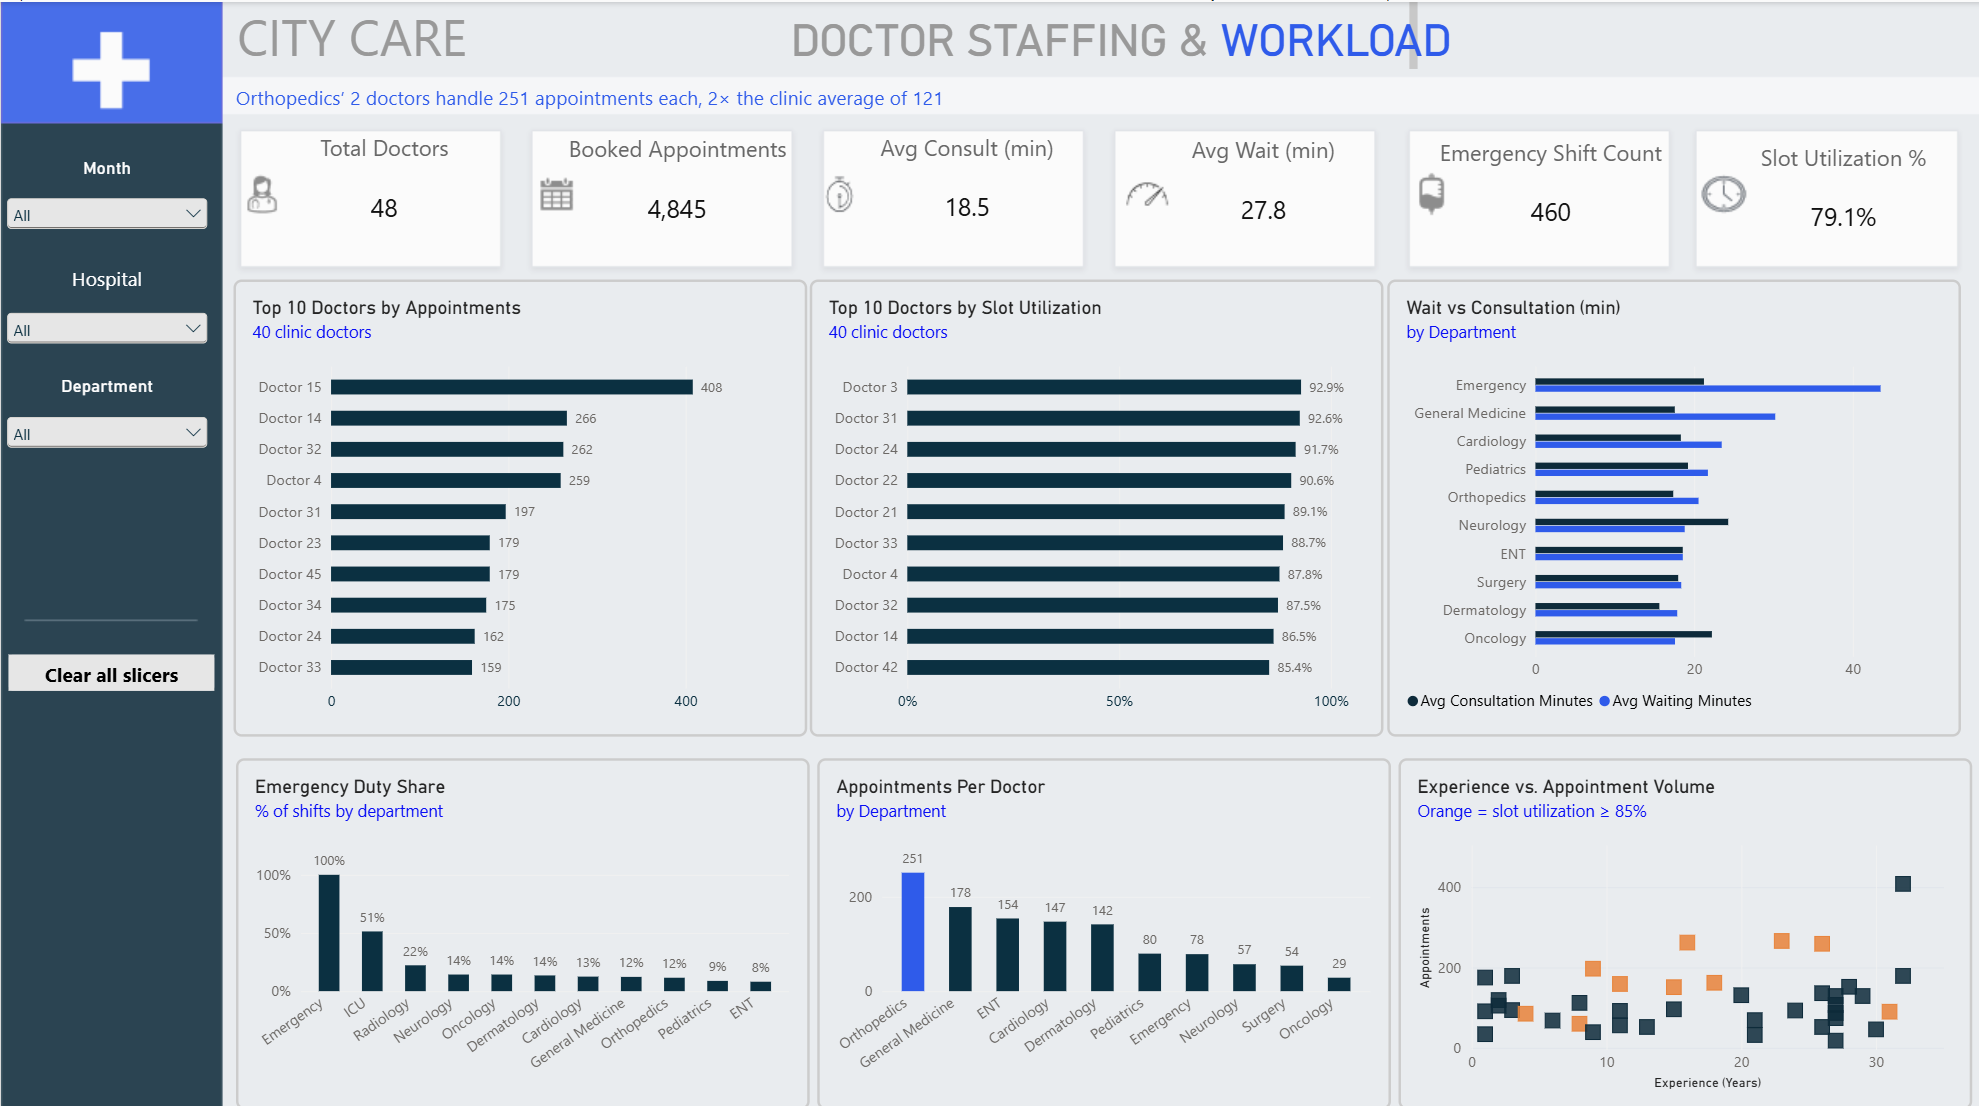

Layout of this report page (visuals, bound fields, positions):
{"tool":"powerbi","page":{"name":"Doctor Staffing","canvas":[1920,1080],"ordinal":1},"visuals":[{"type":"barChart","title":"Top 10 Doctors by Appointments","fields":{"Category":["Doctors.DoctorName"],"Y":["Measures..Total Appointments.."]},"box":[225.2,268.5,555,442],"z":0},{"type":"textbox","box":[662.9,0,707.7,65.3],"z":1000},{"type":"cardVisual","title":"Total Doctors","fields":{"Data":["Measures..Total Doctors"]},"box":[261.5,125.9,219.6,125.9],"z":2000},{"type":"cardVisual","title":"Booked Appointments","fields":{"Data":["Measures (2).Total Appointments"]},"box":[544.1,127.3,221,124.5],"z":3000},{"type":"cardVisual","title":"Avg Consult (min)","fields":{"Data":["Measures..Avg Consultation Minutes"]},"box":[825.2,125.9,220,124.6],"z":4000},{"type":"cardVisual","title":"Avg Wait (min)","fields":{"Data":["Measures..Avg Waiting Minutes"]},"box":[1111.9,128.7,220,124.6],"z":5000},{"type":"cardVisual","title":"Emergency Shift Count","fields":{"Data":["Measures..Emergency Shift Count"]},"box":[1390.2,130.1,220,124.6],"z":6000},{"type":"cardVisual","title":"Slot Utilization %","fields":{"Data":["Measures..Utilization Pct"]},"box":[1672.7,135.7,220,124.6],"z":7000},{"type":"clusteredBarChart","title":"Wait vs Consultation (min)","fields":{"Category":["Departments.DepartmentName"],"Y":["Measures..Avg Consultation Minutes","Measures..Avg Waiting Minutes"]},"box":[1341.3,268.5,555,442],"z":8000},{"type":"clusteredColumnChart","title":"Emergency Duty Share","fields":{"Category":["Departments.DepartmentName"],"Y":["Measures..Emergency Duty %"]},"box":[228,731.3,555,340],"z":9000},{"type":"columnChart","title":"Appointments Per Doctor ","fields":{"Category":["Departments.DepartmentName"],"Y":["Measures..Appointments Per Doctor"]},"box":[790.2,731.3,555,340],"z":10000},{"type":"textbox","box":[705.2,0,770.4,65.1],"z":11000},{"type":"scatterChart","title":"Experience vs. Appointment Volume","fields":{"Category":["Doctors.DoctorName"],"X":["Doctors.ExperienceYears"],"Y":["Measures..Total Appointments.."]},"box":[1352.5,731.5,555,339.9],"z":12000},{"type":"clusteredBarChart","title":"Top 10 Doctors by Slot Utilization","fields":{"Category":["Doctors.DoctorName"],"Y":["Measures..Utilization Pct"]},"box":[783.2,268.5,555,442],"z":13000},{"type":"slicer","title":"Department","fields":{"Values":["Departments.DepartmentName"]},"box":[1.2,361.7,203.2,78.6],"z":14000},{"type":"slicer","title":"Month","fields":{"Values":["Date.Year-Month"]},"box":[1.2,150,203.2,77.4],"z":15000},{"type":"textbox","box":[228.6,0,326.6,65.3],"z":17000},{"type":"actionButton","box":[7.3,631.5,199.6,35.1],"z":18000},{"type":"textbox","box":[228,79.7,731.5,25.2],"z":18001},{"type":"slicer","title":"Hospital","fields":{"Values":["Hospitals.HospitalName"]},"box":[1.3,255.6,203,78],"z":18002}]}

Visuals, with their boxes on the page's 1920x1080 design canvas (x1, y1, x2, y2). These are canvas units, not pixel positions in the 1979x1106 screenshot, which may show the page scaled, cropped or inside an application window:
"Top 10 Doctors by Appointments" barChart: <region>225, 268, 780, 710</region>
textbox: <region>663, 0, 1371, 65</region>
"Total Doctors" cardVisual: <region>262, 126, 481, 252</region>
"Booked Appointments" cardVisual: <region>544, 127, 765, 252</region>
"Avg Consult (min)" cardVisual: <region>825, 126, 1045, 250</region>
"Avg Wait (min)" cardVisual: <region>1112, 129, 1332, 253</region>
"Emergency Shift Count" cardVisual: <region>1390, 130, 1610, 255</region>
"Slot Utilization %" cardVisual: <region>1673, 136, 1893, 260</region>
"Wait vs Consultation (min)" clusteredBarChart: <region>1341, 268, 1896, 710</region>
"Emergency Duty Share" clusteredColumnChart: <region>228, 731, 783, 1071</region>
"Appointments Per Doctor " columnChart: <region>790, 731, 1345, 1071</region>
textbox: <region>705, 0, 1476, 65</region>
"Experience vs. Appointment Volume" scatterChart: <region>1352, 732, 1908, 1071</region>
"Top 10 Doctors by Slot Utilization" clusteredBarChart: <region>783, 268, 1338, 710</region>
"Department" slicer: <region>1, 362, 204, 440</region>
"Month" slicer: <region>1, 150, 204, 227</region>
textbox: <region>229, 0, 555, 65</region>
actionButton: <region>7, 632, 207, 667</region>
textbox: <region>228, 80, 960, 105</region>
"Hospital" slicer: <region>1, 256, 204, 334</region>
